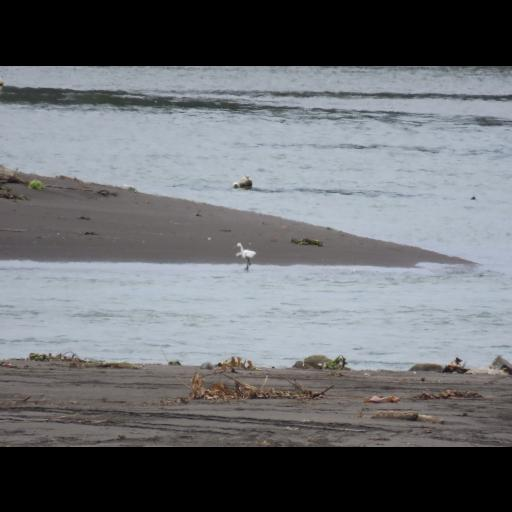chinese_egret: (232, 241, 258, 269)
